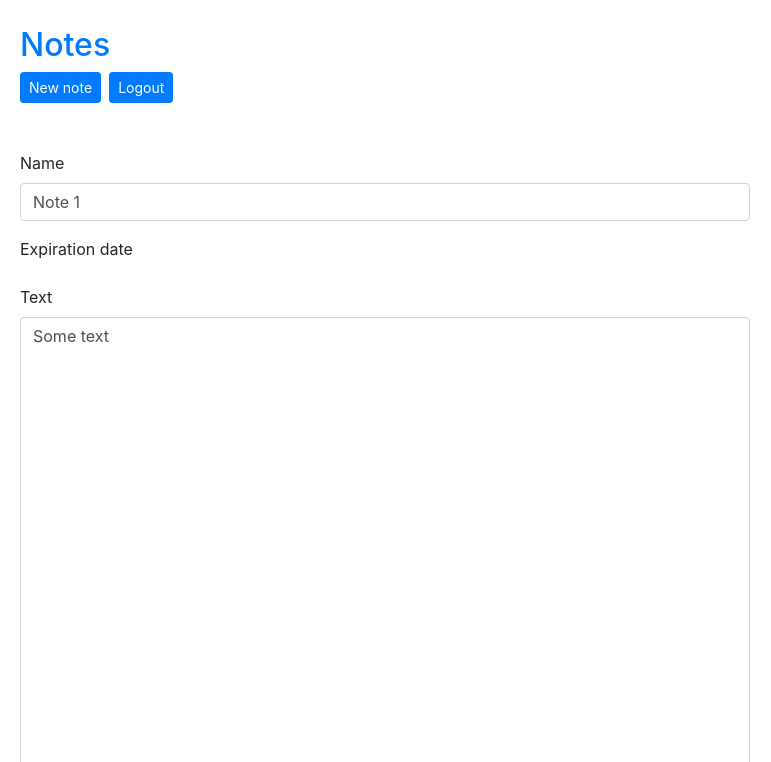
Scenario: Note update test › Should update note correctly
In the field with test id "name": (385, 202) left=20, top=183, right=750, bottom=221, type " renamed!"
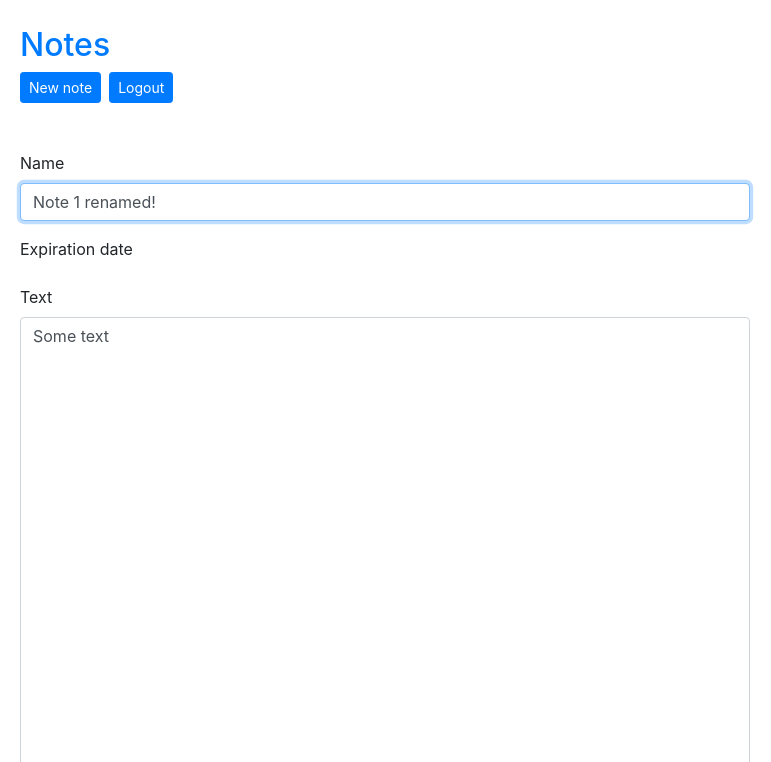
Scroll
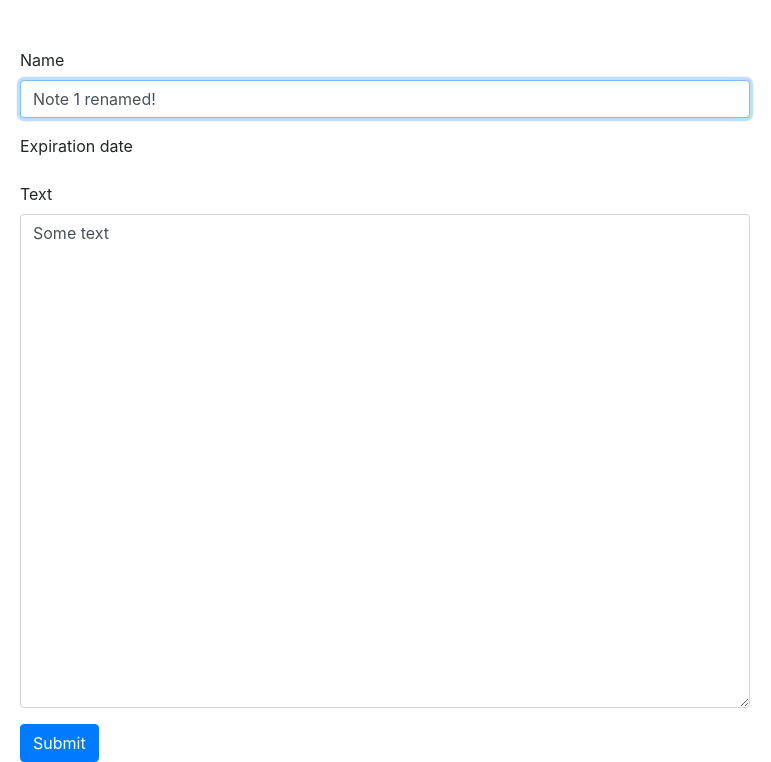
Click the button with test id "submit": (60, 743) left=20, top=724, right=99, bottom=761
(page scrolled)
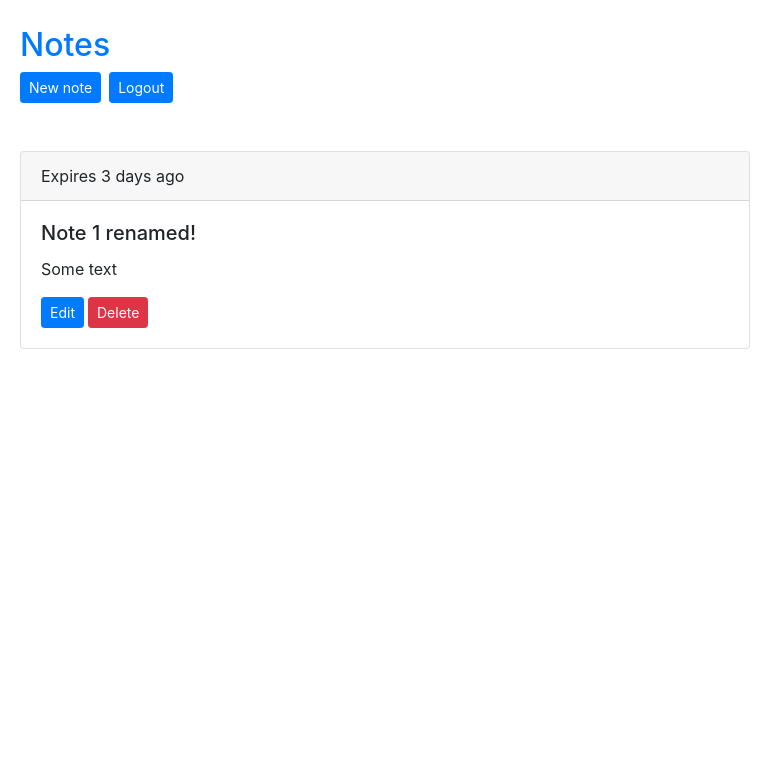
Expected: the heading with test id "container" reads "Note 1 renamed!", left=41, top=221, right=196, bottom=245
